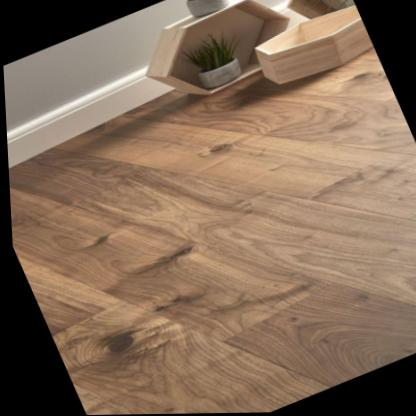Wooden floor: (7, 26, 416, 415)
